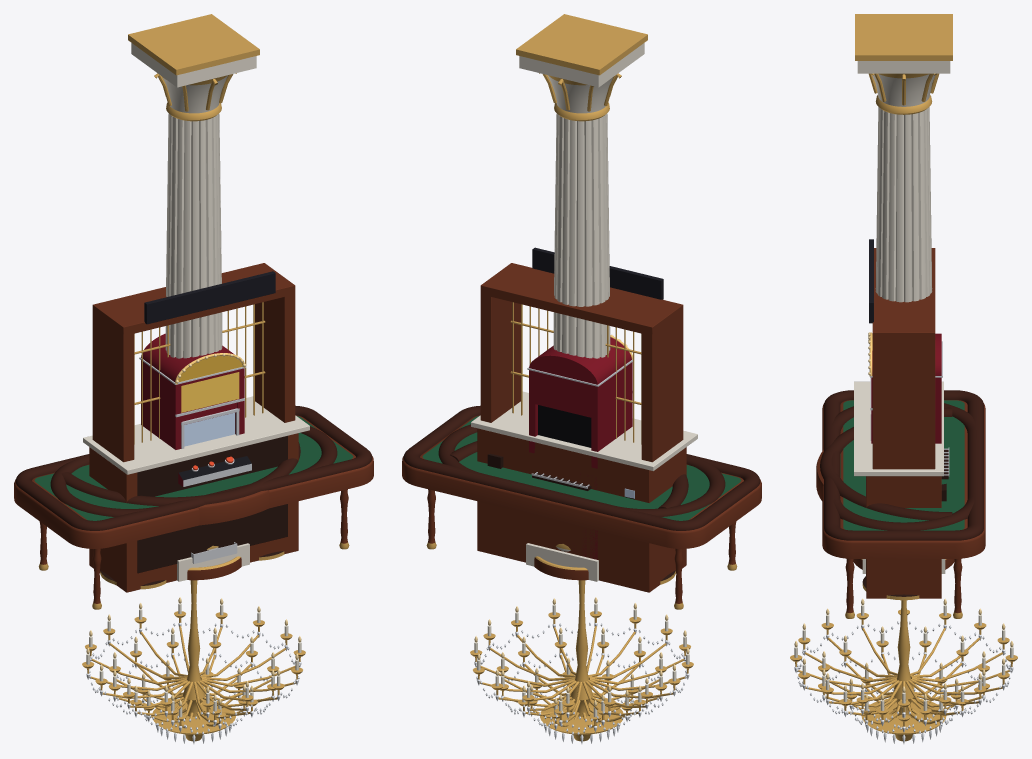
The model's file is casino.glb.
3 views of the same model, side by side, from view 1: azimuth 30°, elevation 25°; view 2: azimuth 150°, elevation 25°; view 3: azimuth 270°, elevation 25° (orthographic).
Visible parts, largest first — view 1: Cashier, Column, RT_Table, Chandelier, SL_Cabinet, PK_Table, BJ_Table, RW_Bowl; view 2: Cashier, Column, RT_Table, Chandelier, SL_Cabinet, PK_Table, BJ_Table, RW_Bowl; view 3: Cashier, Column, RT_Table, Chandelier, PK_Table, BJ_Table, SL_Cabinet.
Boxes of the visible parts, x1=… form: Cashier: x1=83, y1=263, x2=309, y2=592; Column: x1=128, y1=14, x2=259, y2=581; RT_Table: x1=14, y1=405, x2=373, y2=609; Chandelier: x1=82, y1=580, x2=305, y2=743; SL_Cabinet: x1=139, y1=333, x2=251, y2=580; PK_Table: x1=50, y1=426, x2=337, y2=584; BJ_Table: x1=61, y1=442, x2=300, y2=589; RW_Bowl: x1=187, y1=556, x2=241, y2=580; Cashier: x1=471, y1=247, x2=697, y2=592; Column: x1=516, y1=14, x2=647, y2=581; RT_Table: x1=402, y1=405, x2=761, y2=609; Chandelier: x1=470, y1=580, x2=693, y2=743; SL_Cabinet: x1=527, y1=334, x2=632, y2=580; PK_Table: x1=438, y1=424, x2=725, y2=584; BJ_Table: x1=450, y1=441, x2=688, y2=573; RW_Bowl: x1=534, y1=556, x2=588, y2=580; Cashier: x1=854, y1=239, x2=943, y2=598; Column: x1=855, y1=14, x2=952, y2=573; RT_Table: x1=822, y1=390, x2=985, y2=618; Chandelier: x1=790, y1=598, x2=1017, y2=743; PK_Table: x1=822, y1=403, x2=985, y2=600; BJ_Table: x1=816, y1=407, x2=952, y2=598; SL_Cabinet: x1=868, y1=332, x2=942, y2=443.
Size of the model in its own units: 2.8 by 6.21 by 1.82.
